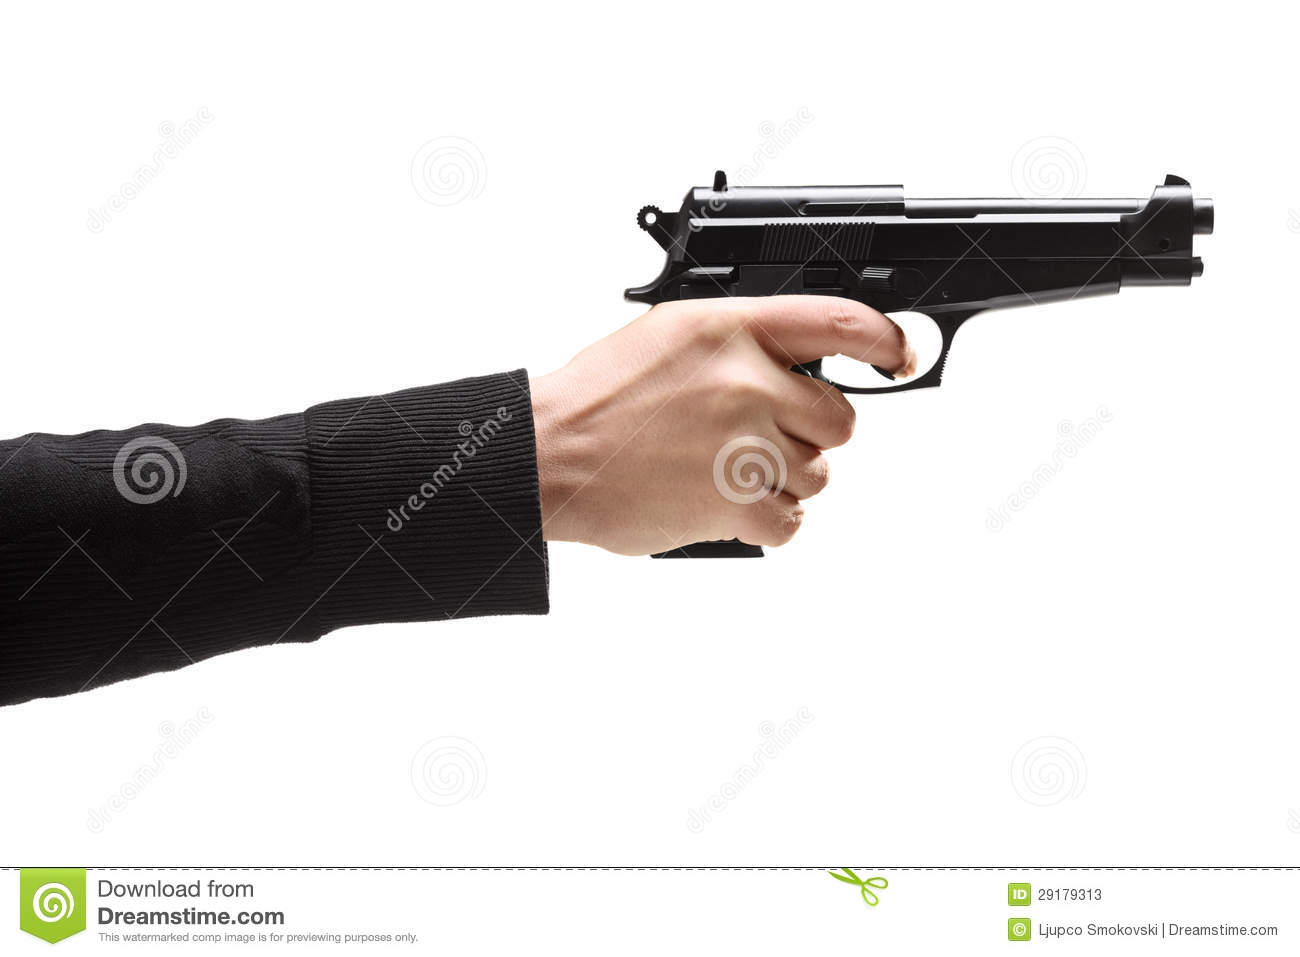pistol: (556, 79, 1268, 626)
